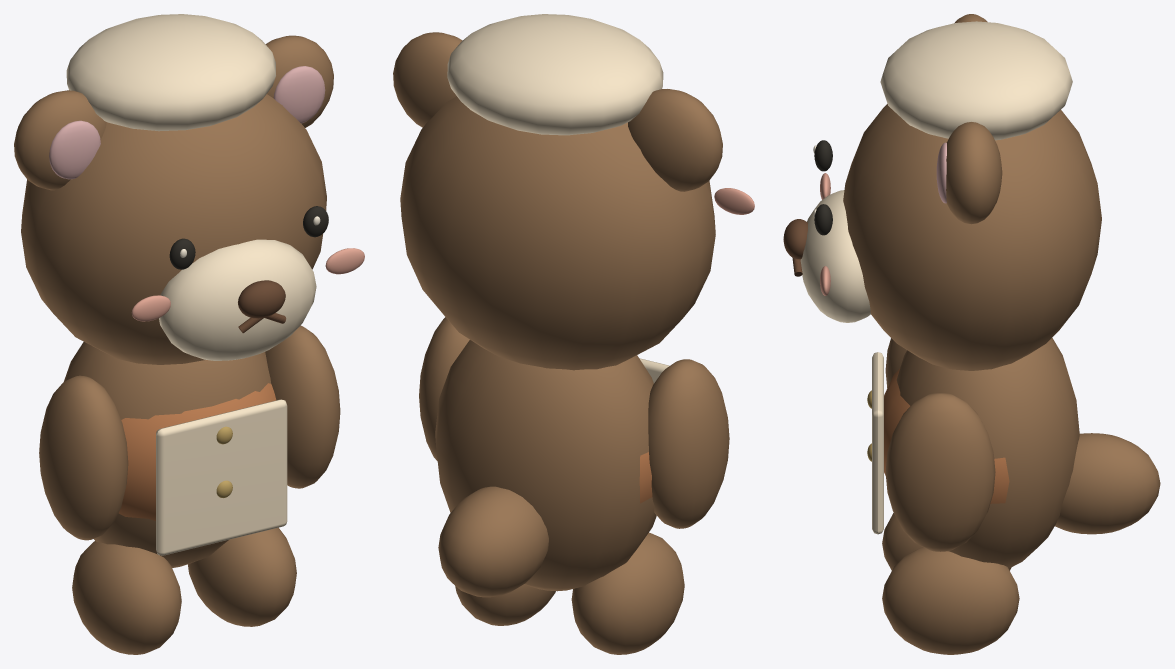
File: bear.glb
3 renders of one model, left to right at view 1: azimuth 30°, elevation 25°; view 2: azimuth 150°, elevation 25°; view 3: azimuth 270°, elevation 25°, orthographic. The views are drawn at different scales.
Visible parts, largest first — view 1: Head.003, Baker cap, Baker apron, Muzzle.003, arm_L.004, Body.004, foot_L.004, arm_R.004, foot_R.004, Soft waistcoat.004, Ear.006, Ear.007 (+7 smaller); view 2: Head.003, Body.004, Baker cap, arm_L.004, Tail.003, foot_L.004, Ear.006, Ear.007, arm_R.004, foot_R.004, Blush.008, Soft waistcoat.004; view 3: Head.003, Body.004, Baker cap, arm_R.004, foot_R.004, Tail.003, Muzzle.003, Ear.007, Baker apron, Soft waistcoat.004, foot_L.004, Nose.003 (+1 smaller).
Part boxes in pixels (<box>): Head.003: <box>21,94,326,364</box>; Baker cap: <box>66,14,275,131</box>; Baker apron: <box>156,399,287,555</box>; Muzzle.003: <box>159,239,316,360</box>; arm_L.004: <box>39,375,128,540</box>; Body.004: <box>64,342,271,567</box>; foot_L.004: <box>72,541,181,654</box>; arm_R.004: <box>265,325,340,488</box>; foot_R.004: <box>188,527,296,626</box>; Soft waistcoat.004: <box>118,383,276,520</box>; Ear.006: <box>14,90,106,190</box>; Ear.007: <box>265,35,333,127</box>; Head.003: <box>400,96,715,370</box>; Body.004: <box>435,340,656,591</box>; Baker cap: <box>447,14,663,135</box>; arm_L.004: <box>648,359,729,528</box>; Tail.003: <box>438,486,548,597</box>; foot_L.004: <box>571,532,684,654</box>; Ear.006: <box>628,89,722,191</box>; Ear.007: <box>393,32,462,127</box>; arm_R.004: <box>419,317,469,460</box>; foot_R.004: <box>455,584,555,625</box>; Blush.008: <box>714,188,754,214</box>; Soft waistcoat.004: <box>639,452,652,503</box>; Head.003: <box>843,104,1101,370</box>; Body.004: <box>896,338,1079,567</box>; Baker cap: <box>880,21,1072,140</box>; arm_R.004: <box>885,392,995,551</box>; foot_R.004: <box>882,547,1019,654</box>; Tail.003: <box>1055,433,1160,534</box>; Muzzle.003: <box>800,190,870,322</box>; Ear.007: <box>946,122,1002,224</box>; Baker apron: <box>872,352,883,534</box>; Soft waistcoat.004: <box>884,368,1009,503</box>; foot_L.004: <box>882,513,1011,570</box>; Nose.003: <box>783,219,807,259</box>.
Size of the model in its own units: 1.04 by 1.87 by 1.1.
